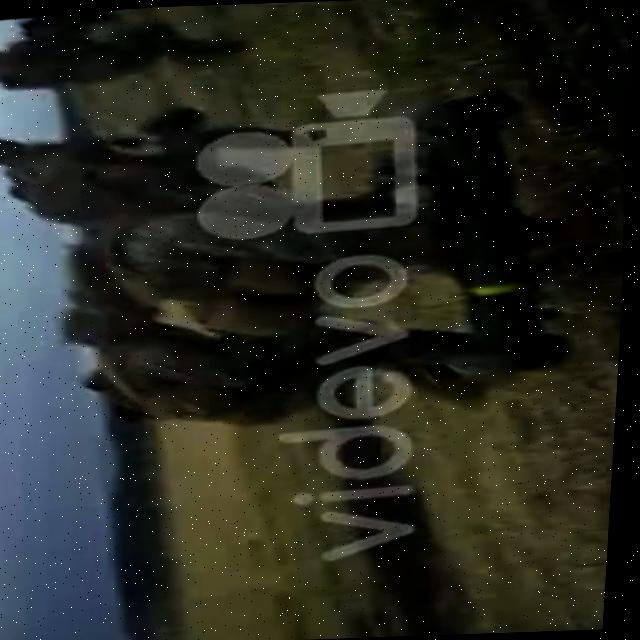rocket: (410, 86, 587, 375)
